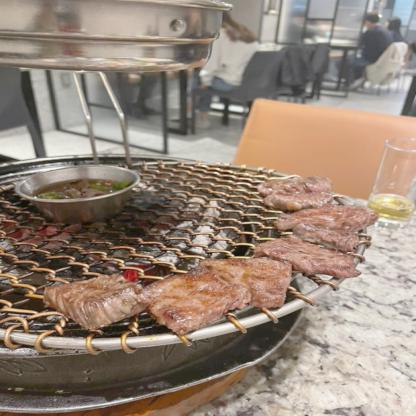Carne: (138, 253, 290, 327), (34, 274, 144, 330), (255, 230, 371, 282), (278, 203, 384, 250), (257, 173, 349, 212)
